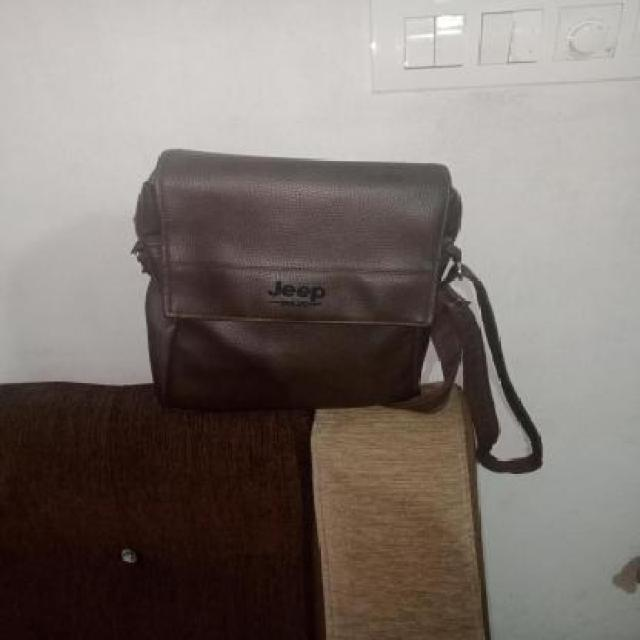backpack: (126, 143, 491, 417)
